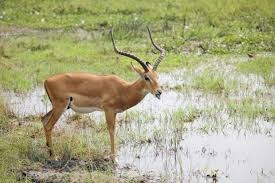impala: (37, 24, 166, 163)
